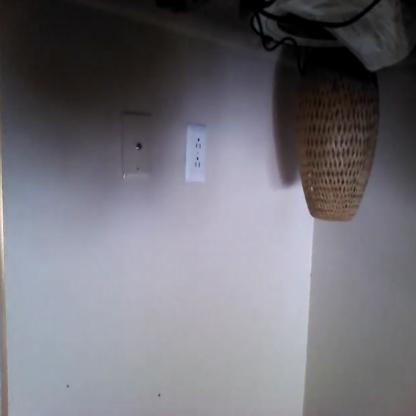OUTLET: (185, 124, 207, 182)
